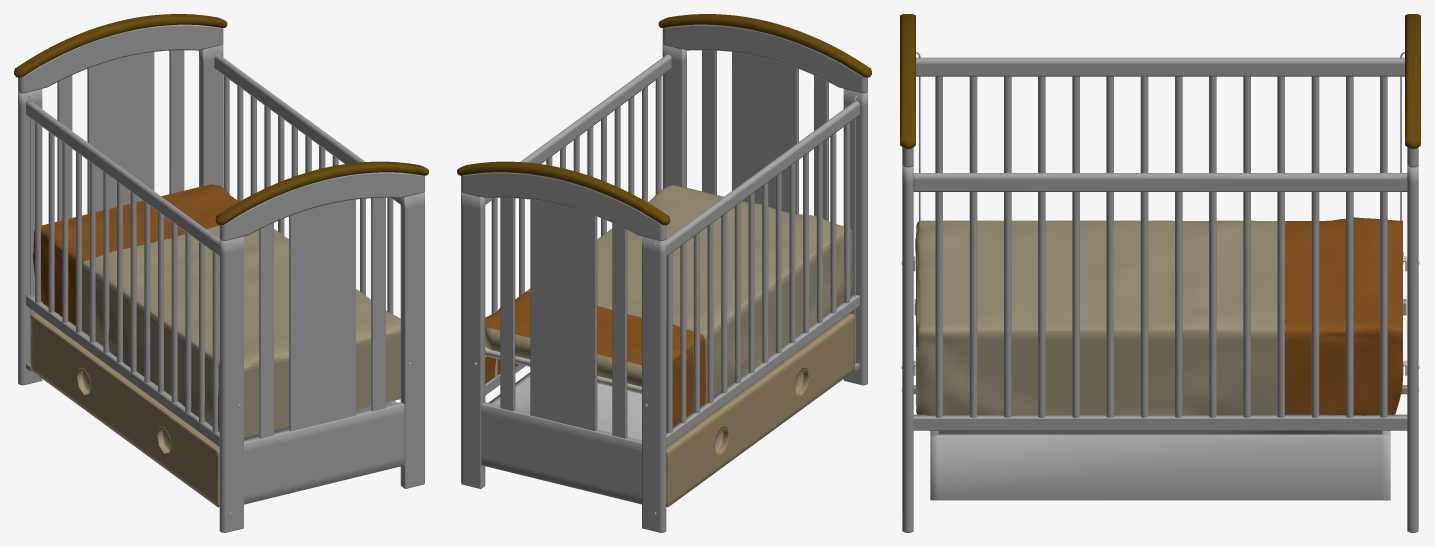
File: crib_exported.obj
3 views of the same model, side by side, from view 1: azimuth 30°, elevation 25°; view 2: azimuth 150°, elevation 25°; view 3: azimuth 270°, elevation 25° (orthographic). The views are drawn at different scales.
Size of the model in its own units: 0.728 by 1.11 by 1.24.
